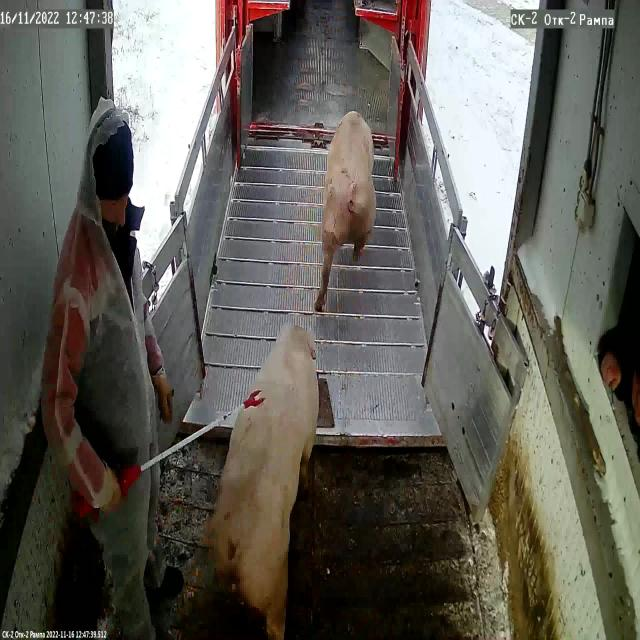pig: (200, 326, 319, 640), (314, 112, 376, 313)
